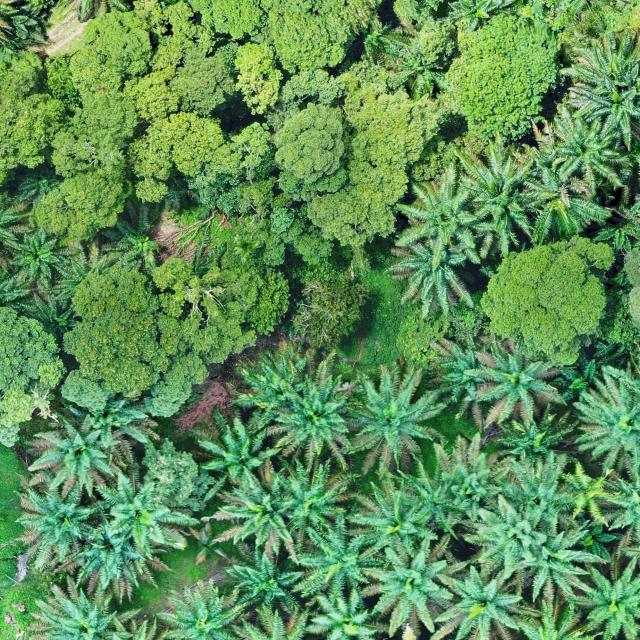Tree: (307, 60, 443, 247), (480, 238, 616, 369), (32, 90, 138, 244), (442, 11, 564, 140), (349, 525, 473, 640), (344, 362, 456, 482), (202, 468, 312, 568), (392, 158, 485, 274), (464, 338, 573, 436), (90, 466, 201, 562), (261, 357, 356, 469), (455, 134, 540, 258), (286, 506, 384, 609), (11, 471, 108, 574), (538, 101, 634, 205), (264, 452, 358, 556), (0, 304, 66, 448), (126, 111, 226, 205), (508, 518, 616, 602), (337, 482, 447, 564), (23, 414, 118, 508), (262, 0, 384, 72), (23, 568, 141, 640), (569, 357, 640, 476), (424, 431, 510, 526), (190, 406, 283, 493), (383, 234, 479, 318), (431, 555, 525, 640), (489, 451, 582, 535), (272, 102, 350, 200), (289, 270, 372, 350), (565, 65, 640, 152), (155, 575, 251, 640), (568, 554, 640, 640), (393, 462, 470, 534), (226, 538, 306, 605), (70, 392, 158, 450), (500, 596, 609, 640), (558, 456, 624, 528), (558, 508, 628, 573), (303, 587, 388, 640), (4, 225, 70, 288), (235, 41, 282, 117)
